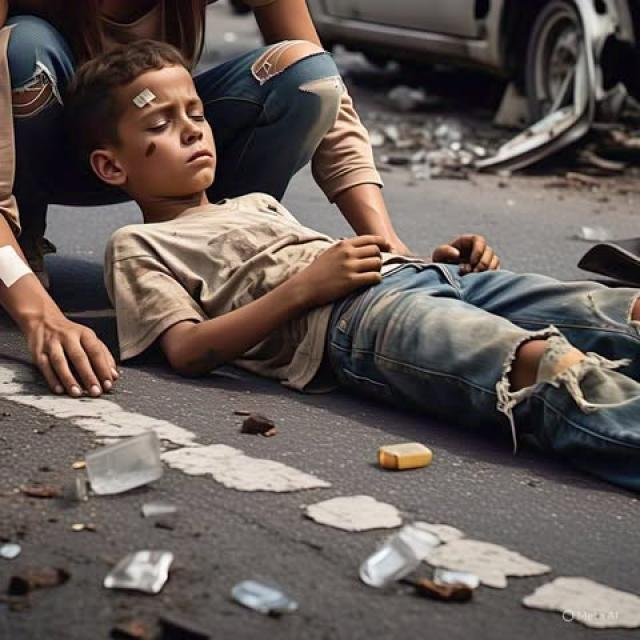injury: (89, 63, 216, 221), (144, 141, 159, 157)
